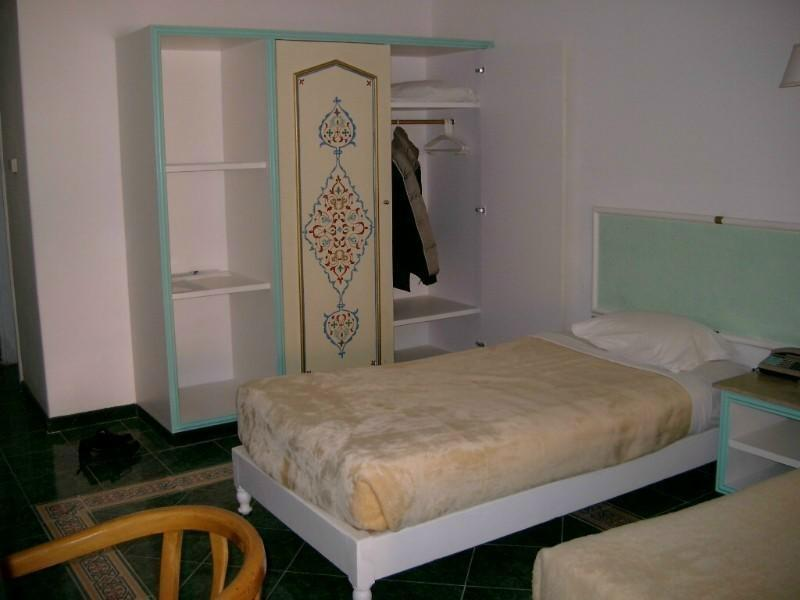Armario: (111, 27, 546, 339)
Cama: (226, 317, 732, 592), (527, 459, 791, 597)
Otro Obstaculo: (71, 433, 150, 476)
